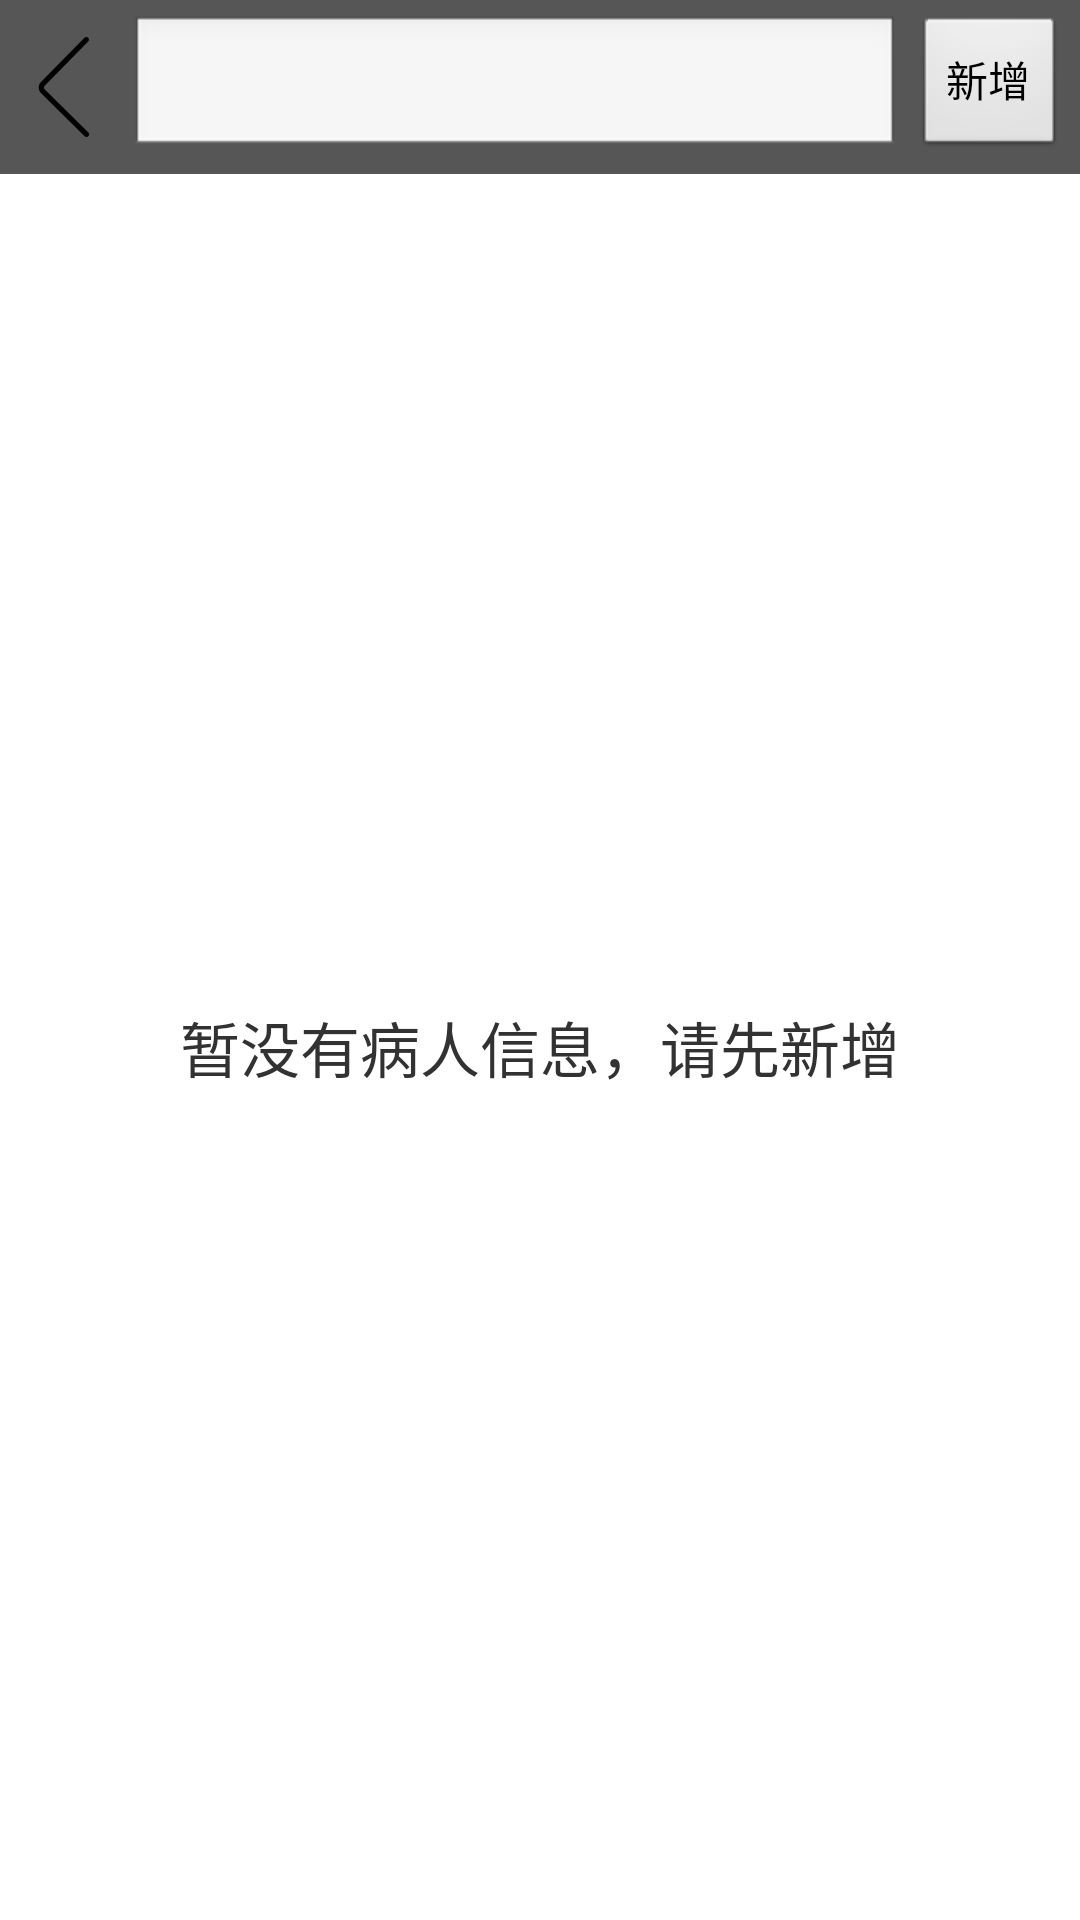

Named icons in this screenshot (1080 × 1920) and their centers, point (x, y):
pre activity: point (64, 87)
